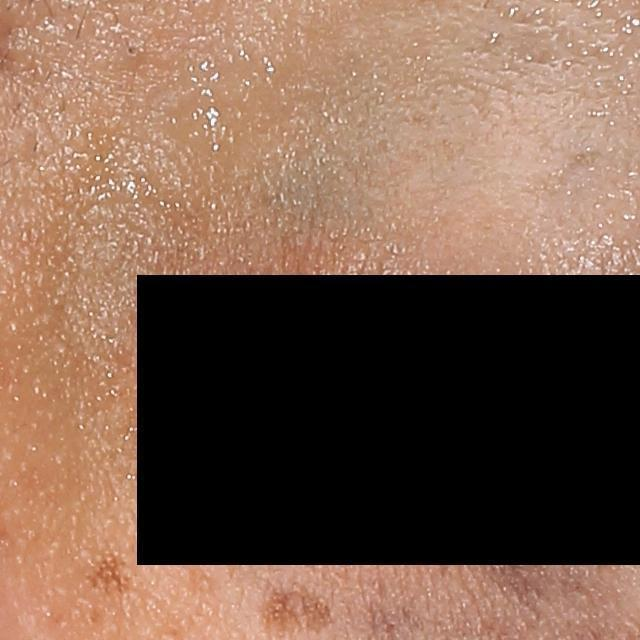melasma: (81, 554, 133, 603)
